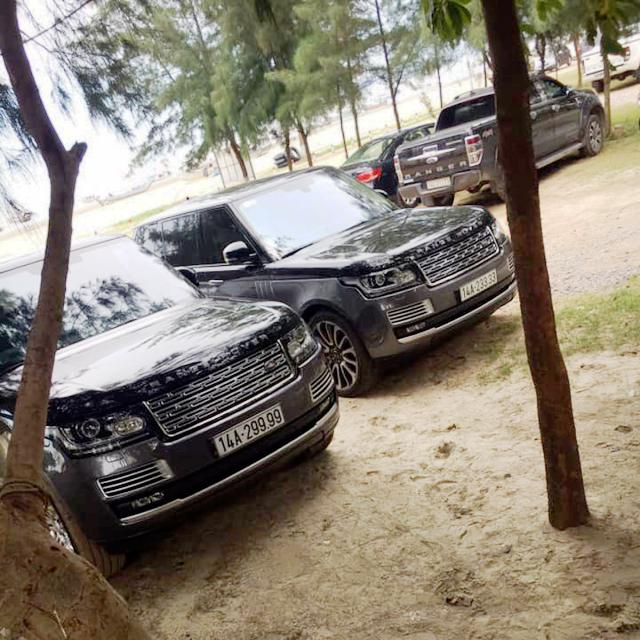license_plate: (215, 405, 286, 457), (461, 270, 498, 302)
